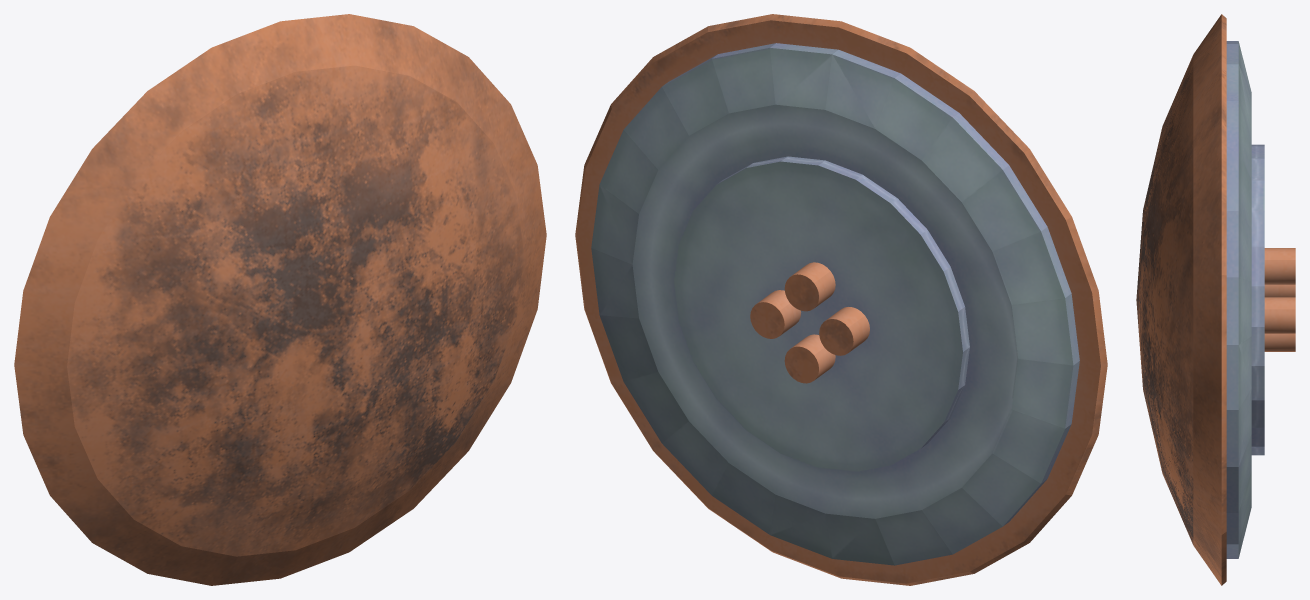
File: module-waapi-01.glb
3 renders of one model, left to right at view 1: azimuth 30°, elevation 25°; view 2: azimuth 150°, elevation 25°; view 3: azimuth 270°, elevation 25°, orthographic. The views are drawn at different scales.
Visible parts, largest first — view 1: Mesh_0.001; view 2: Mesh_0.001; view 3: Mesh_0.001.
Part boxes in pixels (x1,y1,x2,y2): Mesh_0.001: (14,14,546,585); Mesh_0.001: (575,14,1107,585); Mesh_0.001: (1136,14,1295,585).
Size of the model in its own units: 1.86 by 1.86 by 0.5145.
Materials: 1 (1 with a texture image).
